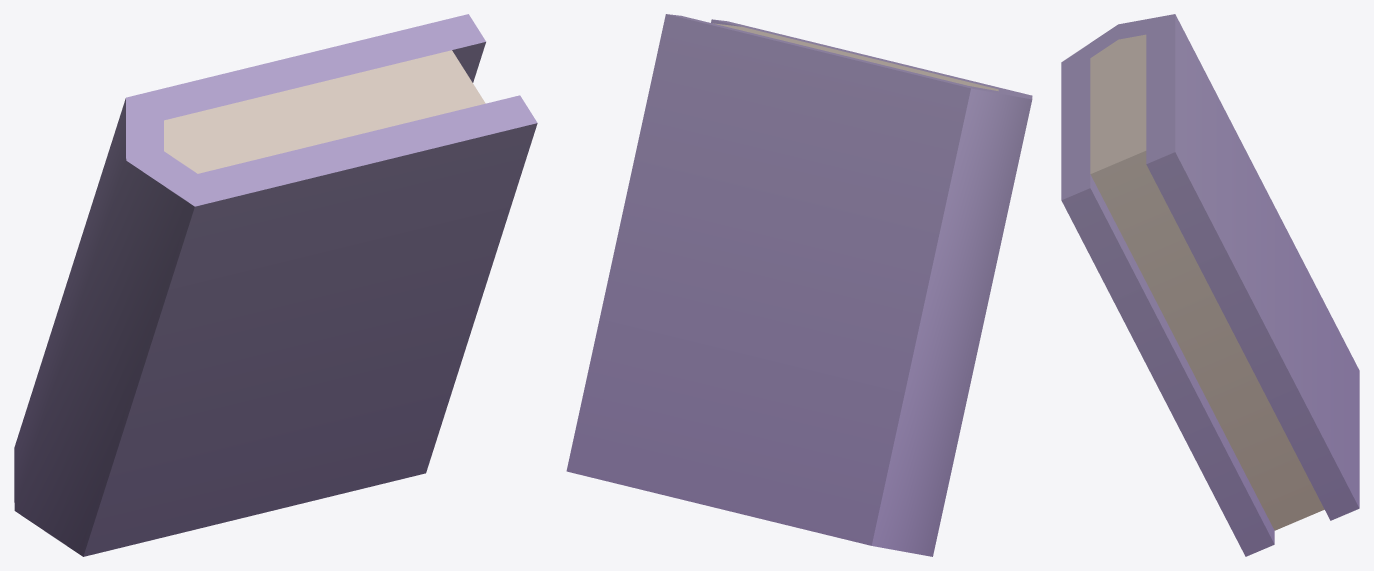
File: book-leaning.glb
3 views of the same model, side by side, from view 1: azimuth 30°, elevation 25°; view 2: azimuth 150°, elevation 25°; view 3: azimuth 270°, elevation 25° (orthographic). The views are drawn at different scales.
Parts seen in each view (by area): view 1: book-leaning; view 2: book-leaning; view 3: book-leaning.
Part boxes in pixels (bbox=[...]): book-leaning: bbox=[14, 14, 537, 556]; book-leaning: bbox=[566, 14, 1032, 556]; book-leaning: bbox=[1061, 14, 1359, 556].
Bounding box in the file's own units: 0.22 × 0.2735 × 0.1826.
